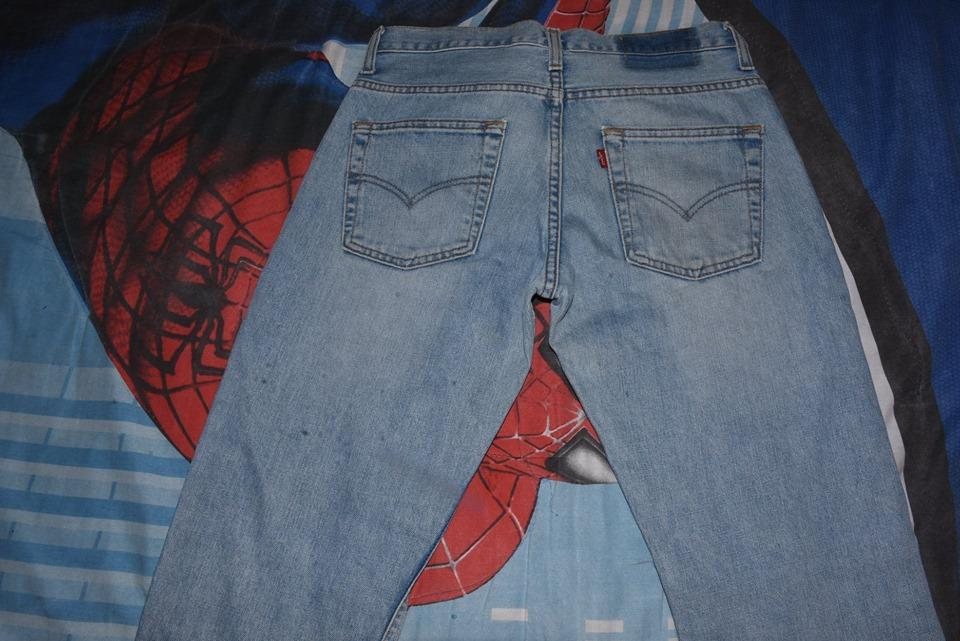Jeans: (126, 0, 956, 641)
